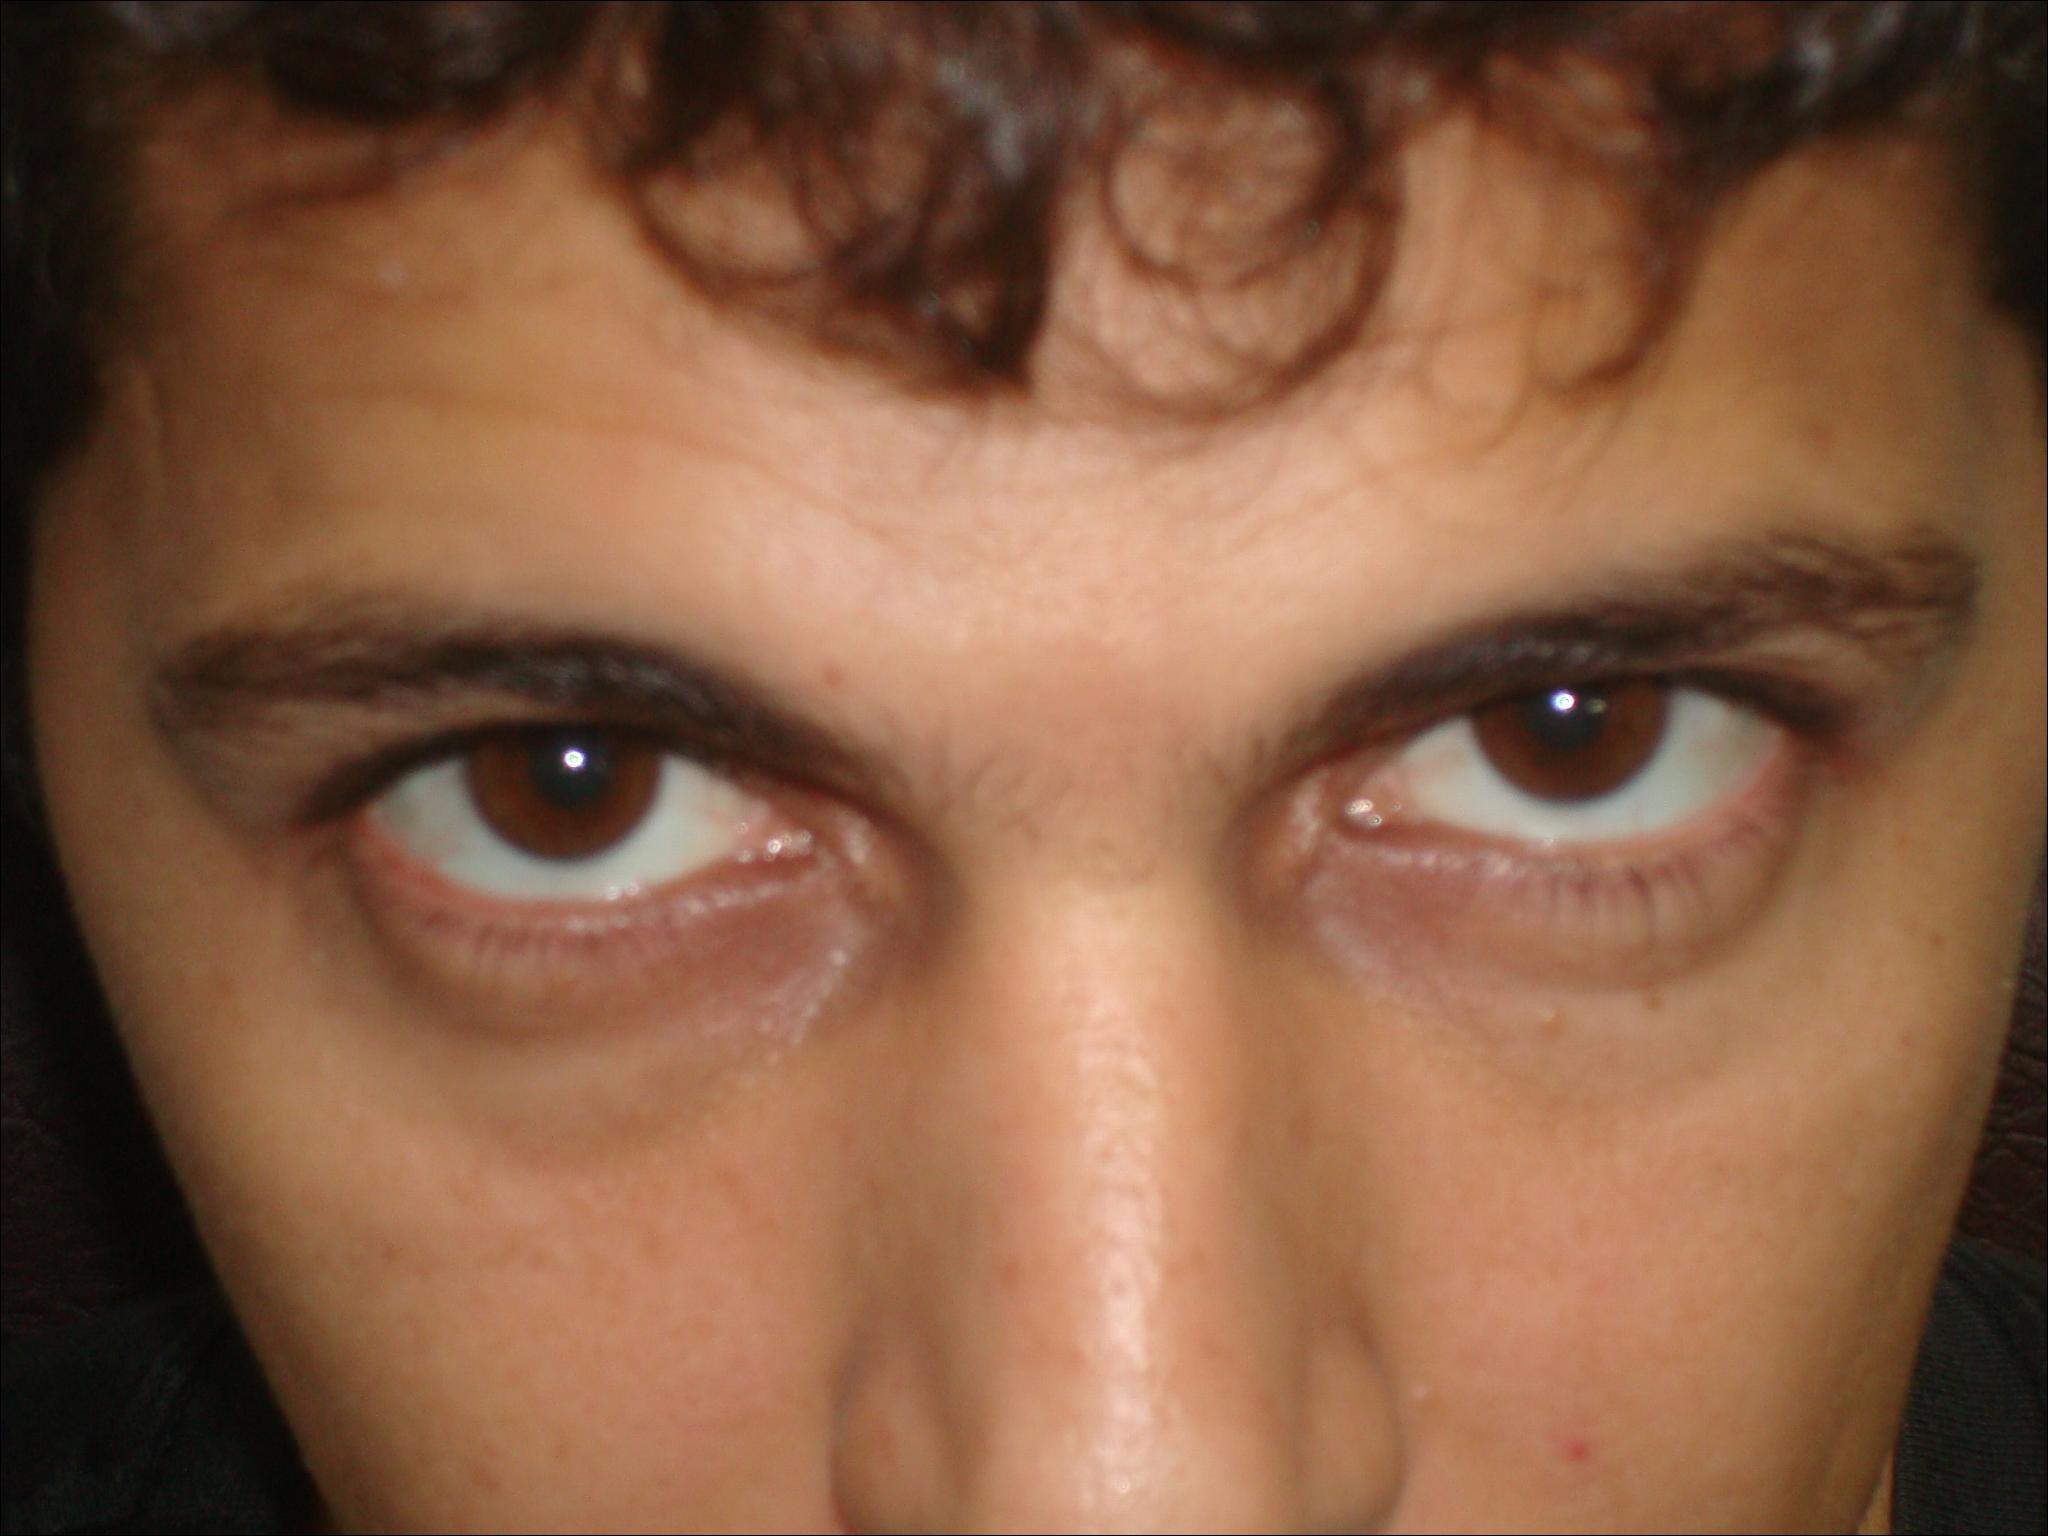flash: (558, 742, 590, 776), (1550, 684, 1580, 718)
limbo: (472, 684, 668, 862), (1464, 629, 1663, 784)
